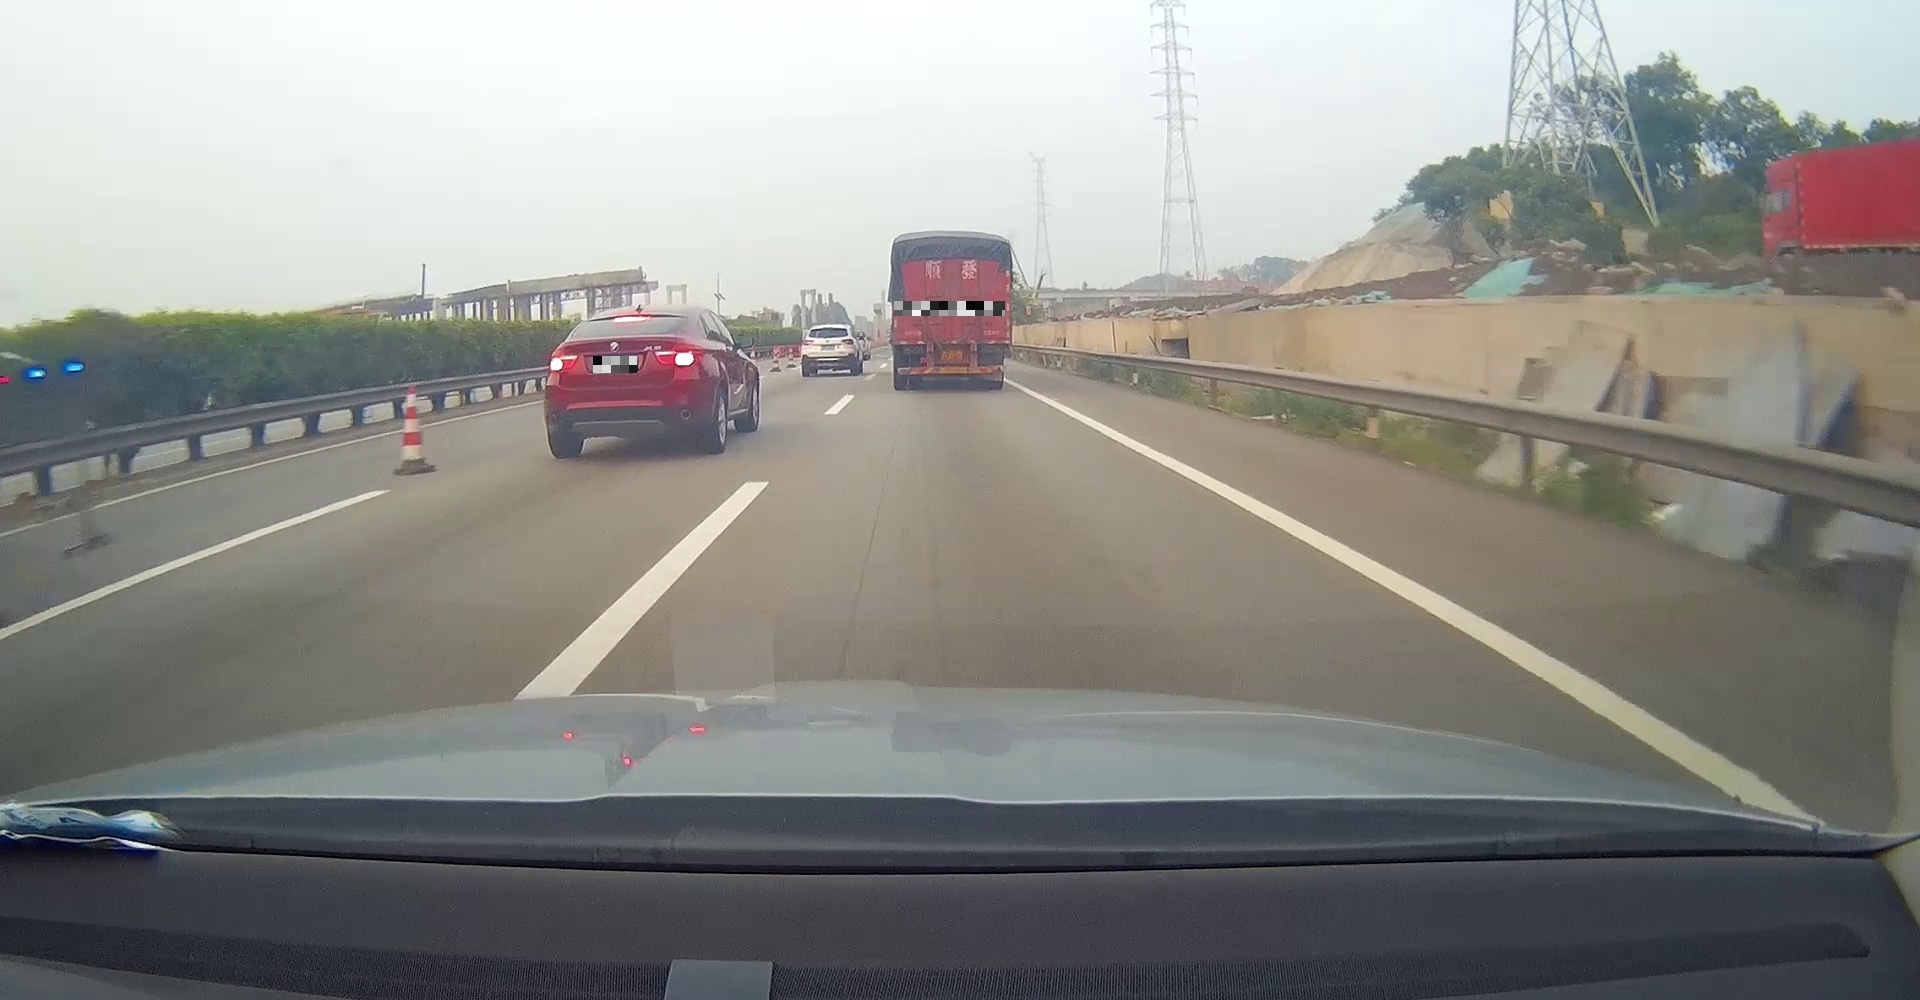L_light: (549, 350, 579, 372), (903, 345, 924, 353), (803, 340, 814, 346)
R_light: (657, 343, 703, 365), (978, 344, 1001, 352), (841, 339, 853, 345)
T_light: (615, 313, 650, 321), (941, 256, 961, 261), (822, 327, 833, 331)
day-brake: (542, 305, 706, 461)
day-no: (891, 231, 1011, 390), (799, 324, 857, 377)
plate_1: (593, 357, 637, 373)
plate_2: (894, 301, 1004, 316)
